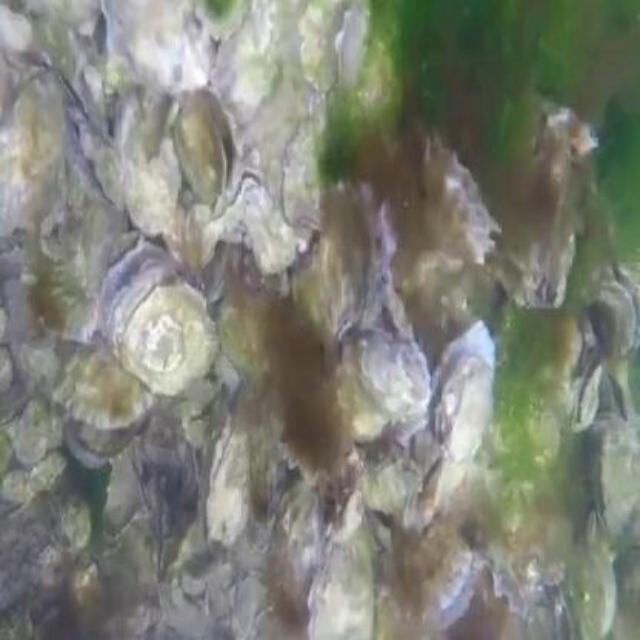Oyster-Closed: (199, 169, 312, 272), (99, 0, 218, 90), (307, 497, 375, 638), (211, 0, 278, 123), (206, 410, 252, 544), (357, 330, 429, 413), (336, 344, 391, 441), (122, 137, 178, 231), (590, 425, 638, 533), (280, 422, 356, 479), (472, 543, 528, 615), (357, 461, 421, 514), (337, 0, 369, 95), (195, 0, 250, 38), (54, 63, 86, 111)
Oyster-Open: (405, 321, 496, 532), (100, 239, 222, 391), (56, 347, 164, 469), (419, 137, 494, 269), (393, 521, 474, 625), (174, 86, 240, 200), (68, 109, 121, 208), (590, 262, 638, 366), (571, 353, 603, 432), (606, 370, 632, 416)
